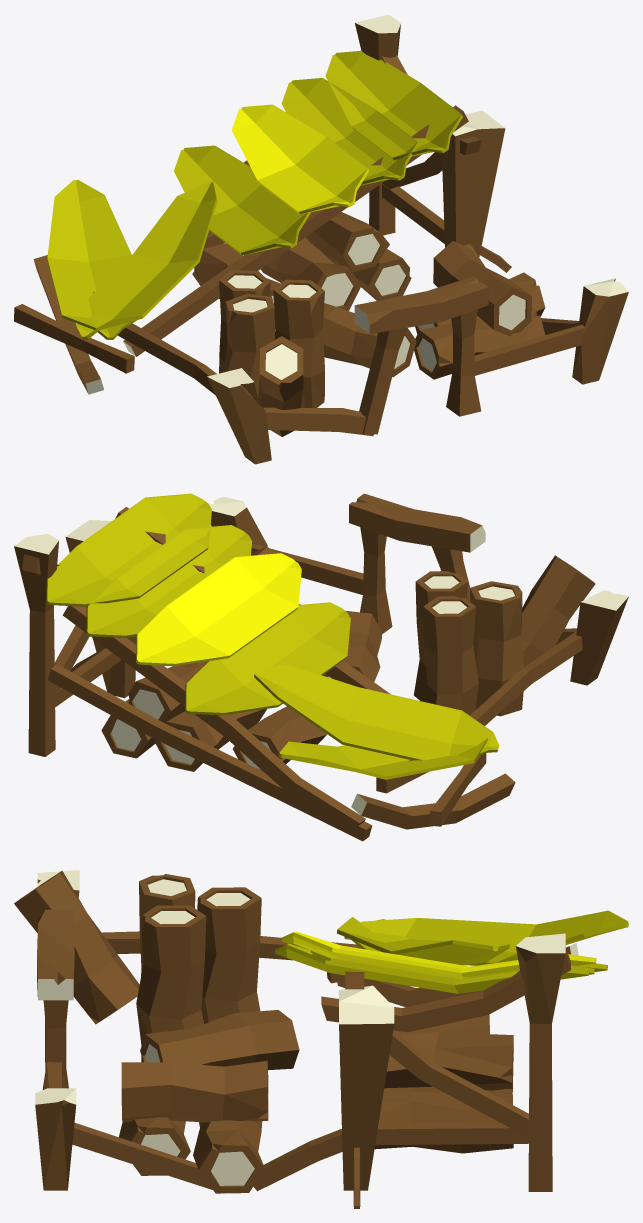
File: Wood_storage_4.fbx
The picture shows the model from 3 angles, top to bottom: view 1: azimuth 30°, elevation 25°; view 2: azimuth 150°, elevation 25°; view 3: azimuth 270°, elevation 25°; orthographic projection. The views are drawn at different scales.
Visible parts, largest first — view 1: Cube.017; view 2: Cube.017; view 3: Cube.017.
Part boxes in pixels (box(x1,y1,x2,y2)): Cube.017: box(14, 14, 628, 464); Cube.017: box(14, 493, 628, 841); Cube.017: box(14, 870, 628, 1208).
Bounding box in the file's own units: 6 × 6.21 × 3.
